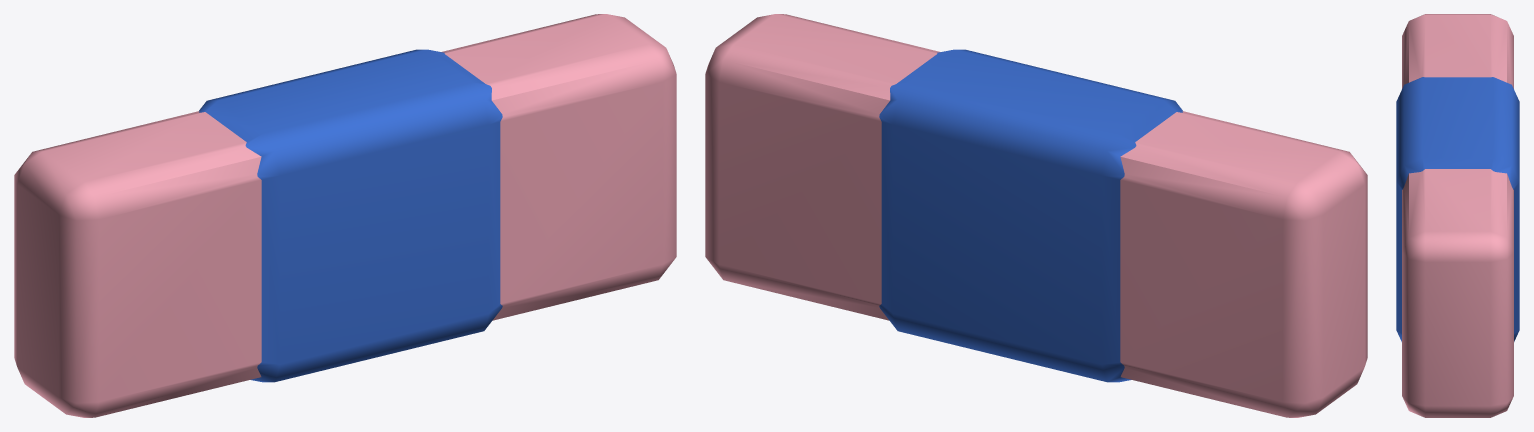
The model's file is eraser.glb.
3 views of the same model, side by side, from view 1: azimuth 30°, elevation 25°; view 2: azimuth 150°, elevation 25°; view 3: azimuth 270°, elevation 25° (orthographic). The views are drawn at different scales.
Visible parts, largest first — view 1: eraser; view 2: eraser; view 3: eraser.
Part boxes in pixels (x1,y1,x2,y2): eraser: (14,14,676,417); eraser: (705,14,1367,417); eraser: (1396,14,1519,417).
Size of the model in its own units: 0.06 by 0.0232 by 0.0132.
